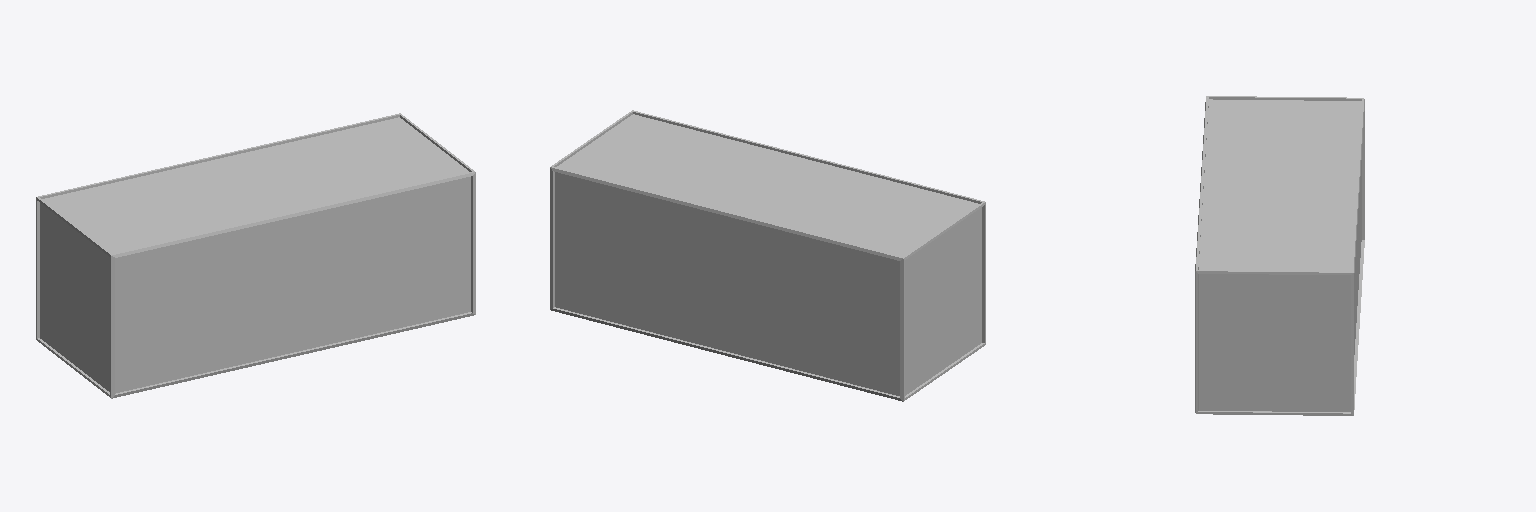
The model's file is kontena.obj.
3 renders of one model, left to right at view 1: azimuth 30°, elevation 25°; view 2: azimuth 150°, elevation 25°; view 3: azimuth 270°, elevation 25°, orthographic.
Bounding box in the file's own units: 8.08 × 3.05 × 3.28.